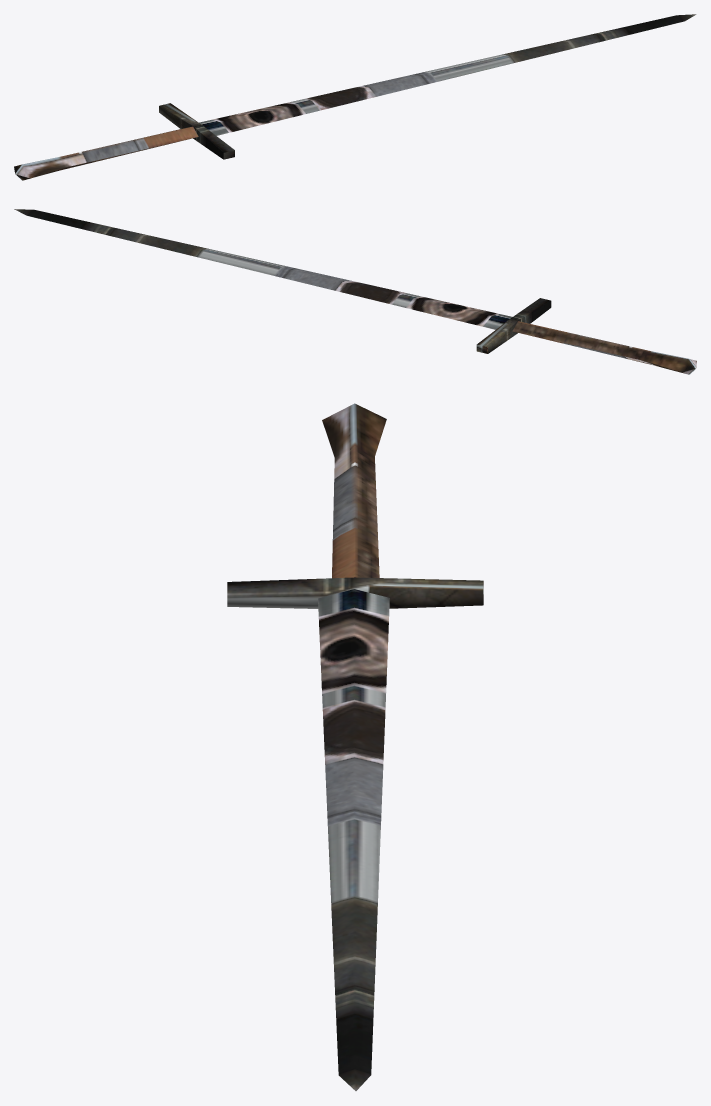
File: GY_jian002.fbx
3 views of the same model, one above another, from view 1: azimuth 30°, elevation 25°; view 2: azimuth 150°, elevation 25°; view 3: azimuth 270°, elevation 25° (orthographic). The views are drawn at different scales.
Visible parts, largest first — view 1: GY_jian002; view 2: GY_jian002; view 3: GY_jian002.
Boxes of the visible parts, box(x1,y1,x2,y2) form: GY_jian002: box(14, 14, 696, 180); GY_jian002: box(14, 209, 696, 374); GY_jian002: box(227, 403, 483, 1090).
Bounding box in the file's own units: 138 × 3.32 × 22.4.
